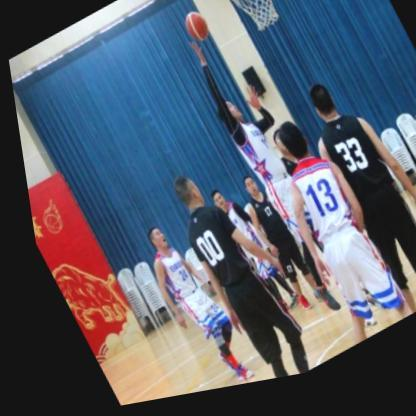basketball: (179, 12, 213, 53)
rim: (221, 0, 288, 49)
